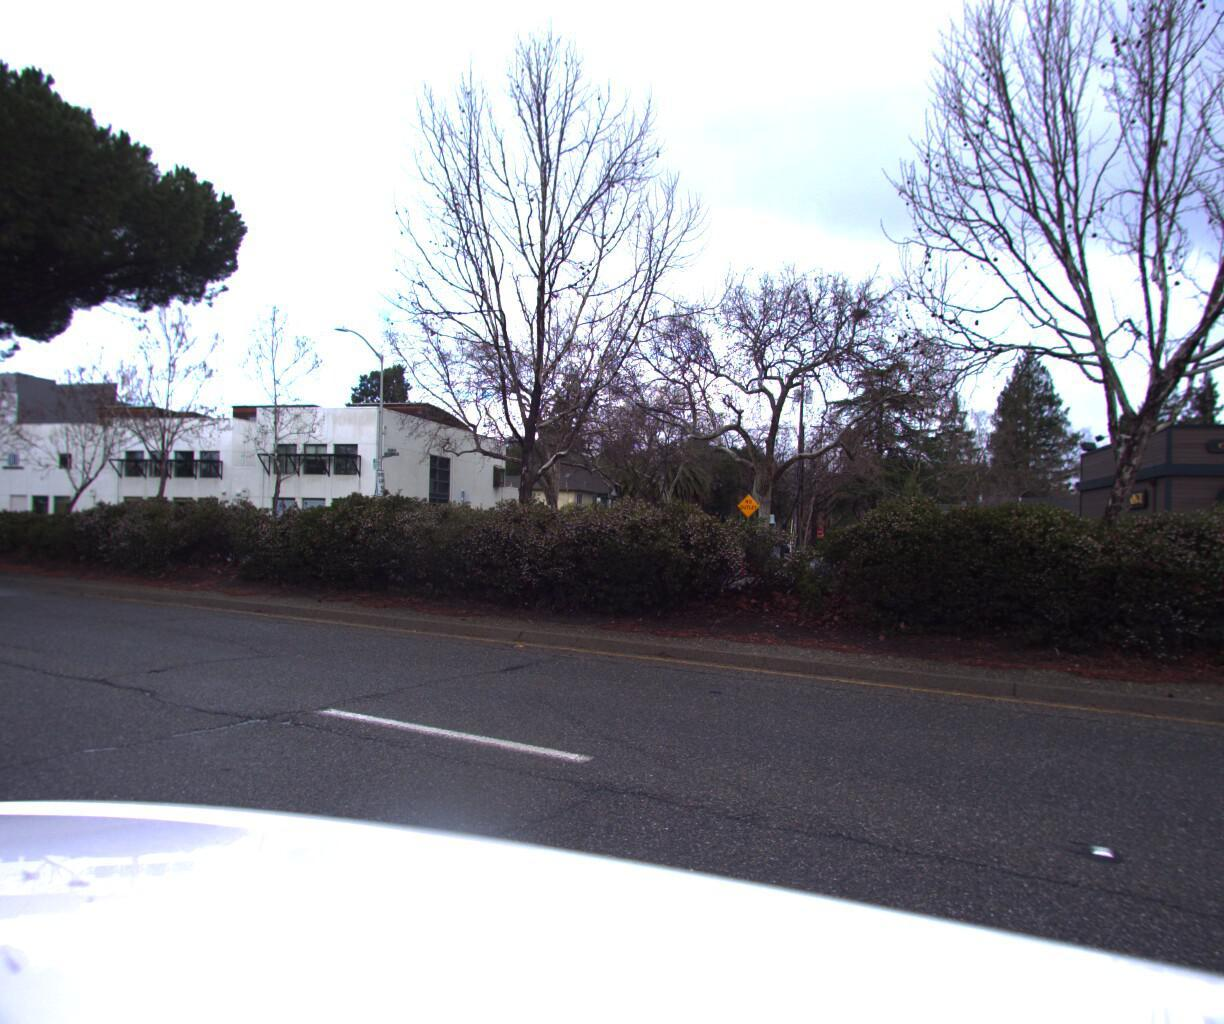car: (0, 508, 36, 541)
